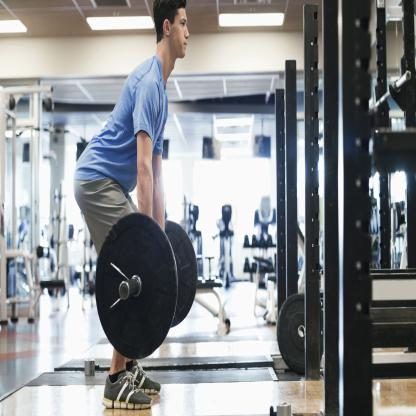Barbell: (90, 208, 182, 362)
